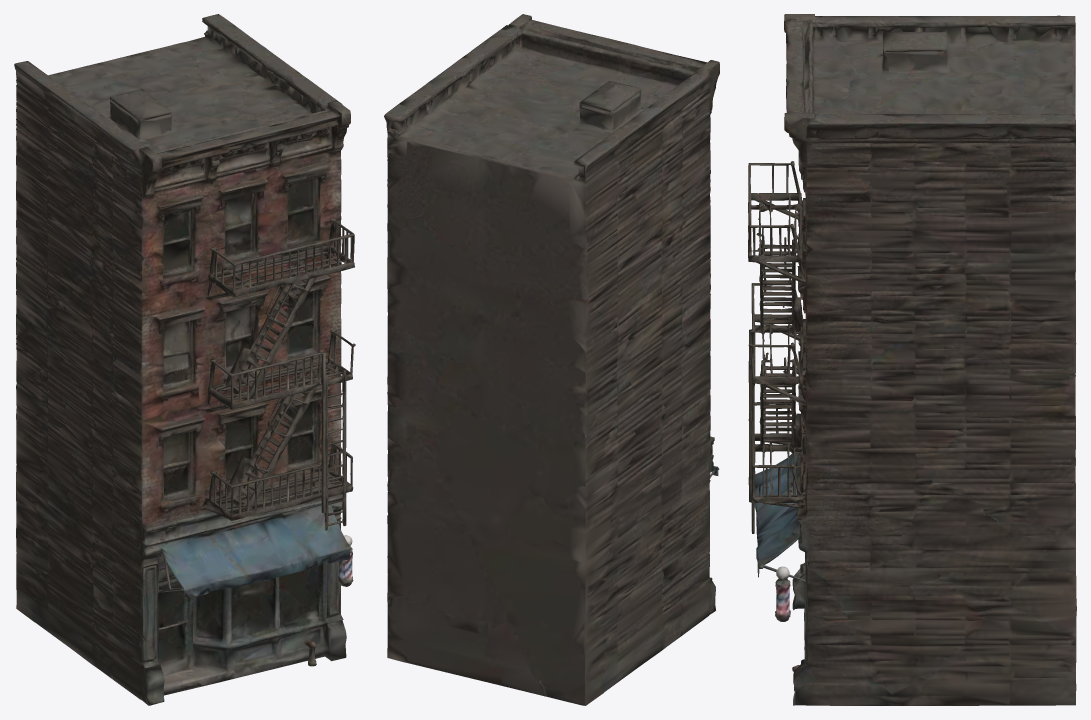
The model's file is barber_shop.glb.
3 views of the same model, side by side, from view 1: azimuth 30°, elevation 25°; view 2: azimuth 150°, elevation 25°; view 3: azimuth 270°, elevation 25° (orthographic). The views are drawn at different scales.
Parts seen in each view (by area): view 1: mesh_node; view 2: mesh_node; view 3: mesh_node.
Part boxes in pixels (x1=…): mesh_node: x1=14, y1=14, x2=355, y2=705; mesh_node: x1=384, y1=14, x2=719, y2=705; mesh_node: x1=748, y1=14, x2=1076, y2=705.
Size of the model in its own units: 5.41 by 14 by 7.
1 material, 1 textured.
